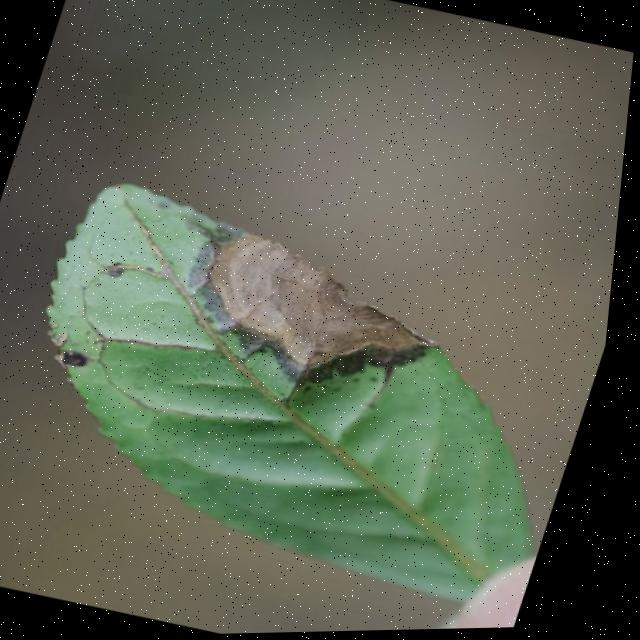Tea cloud leaf blight: (173, 215, 468, 409)
